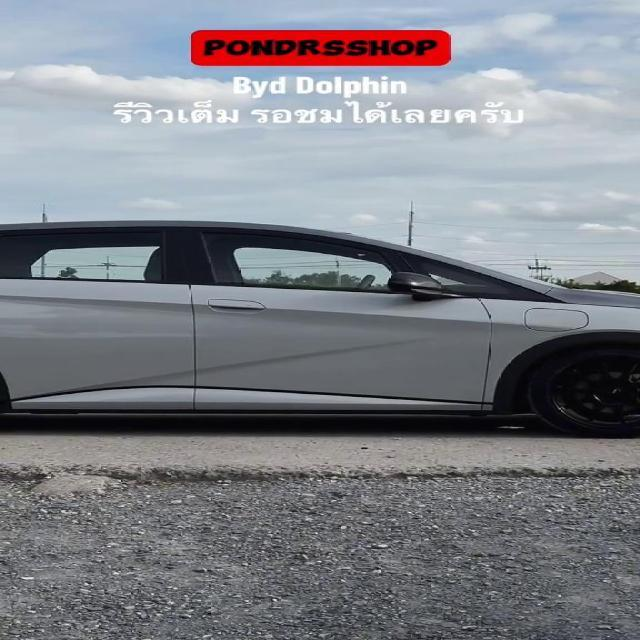Hatchback: (0, 221, 639, 438)
